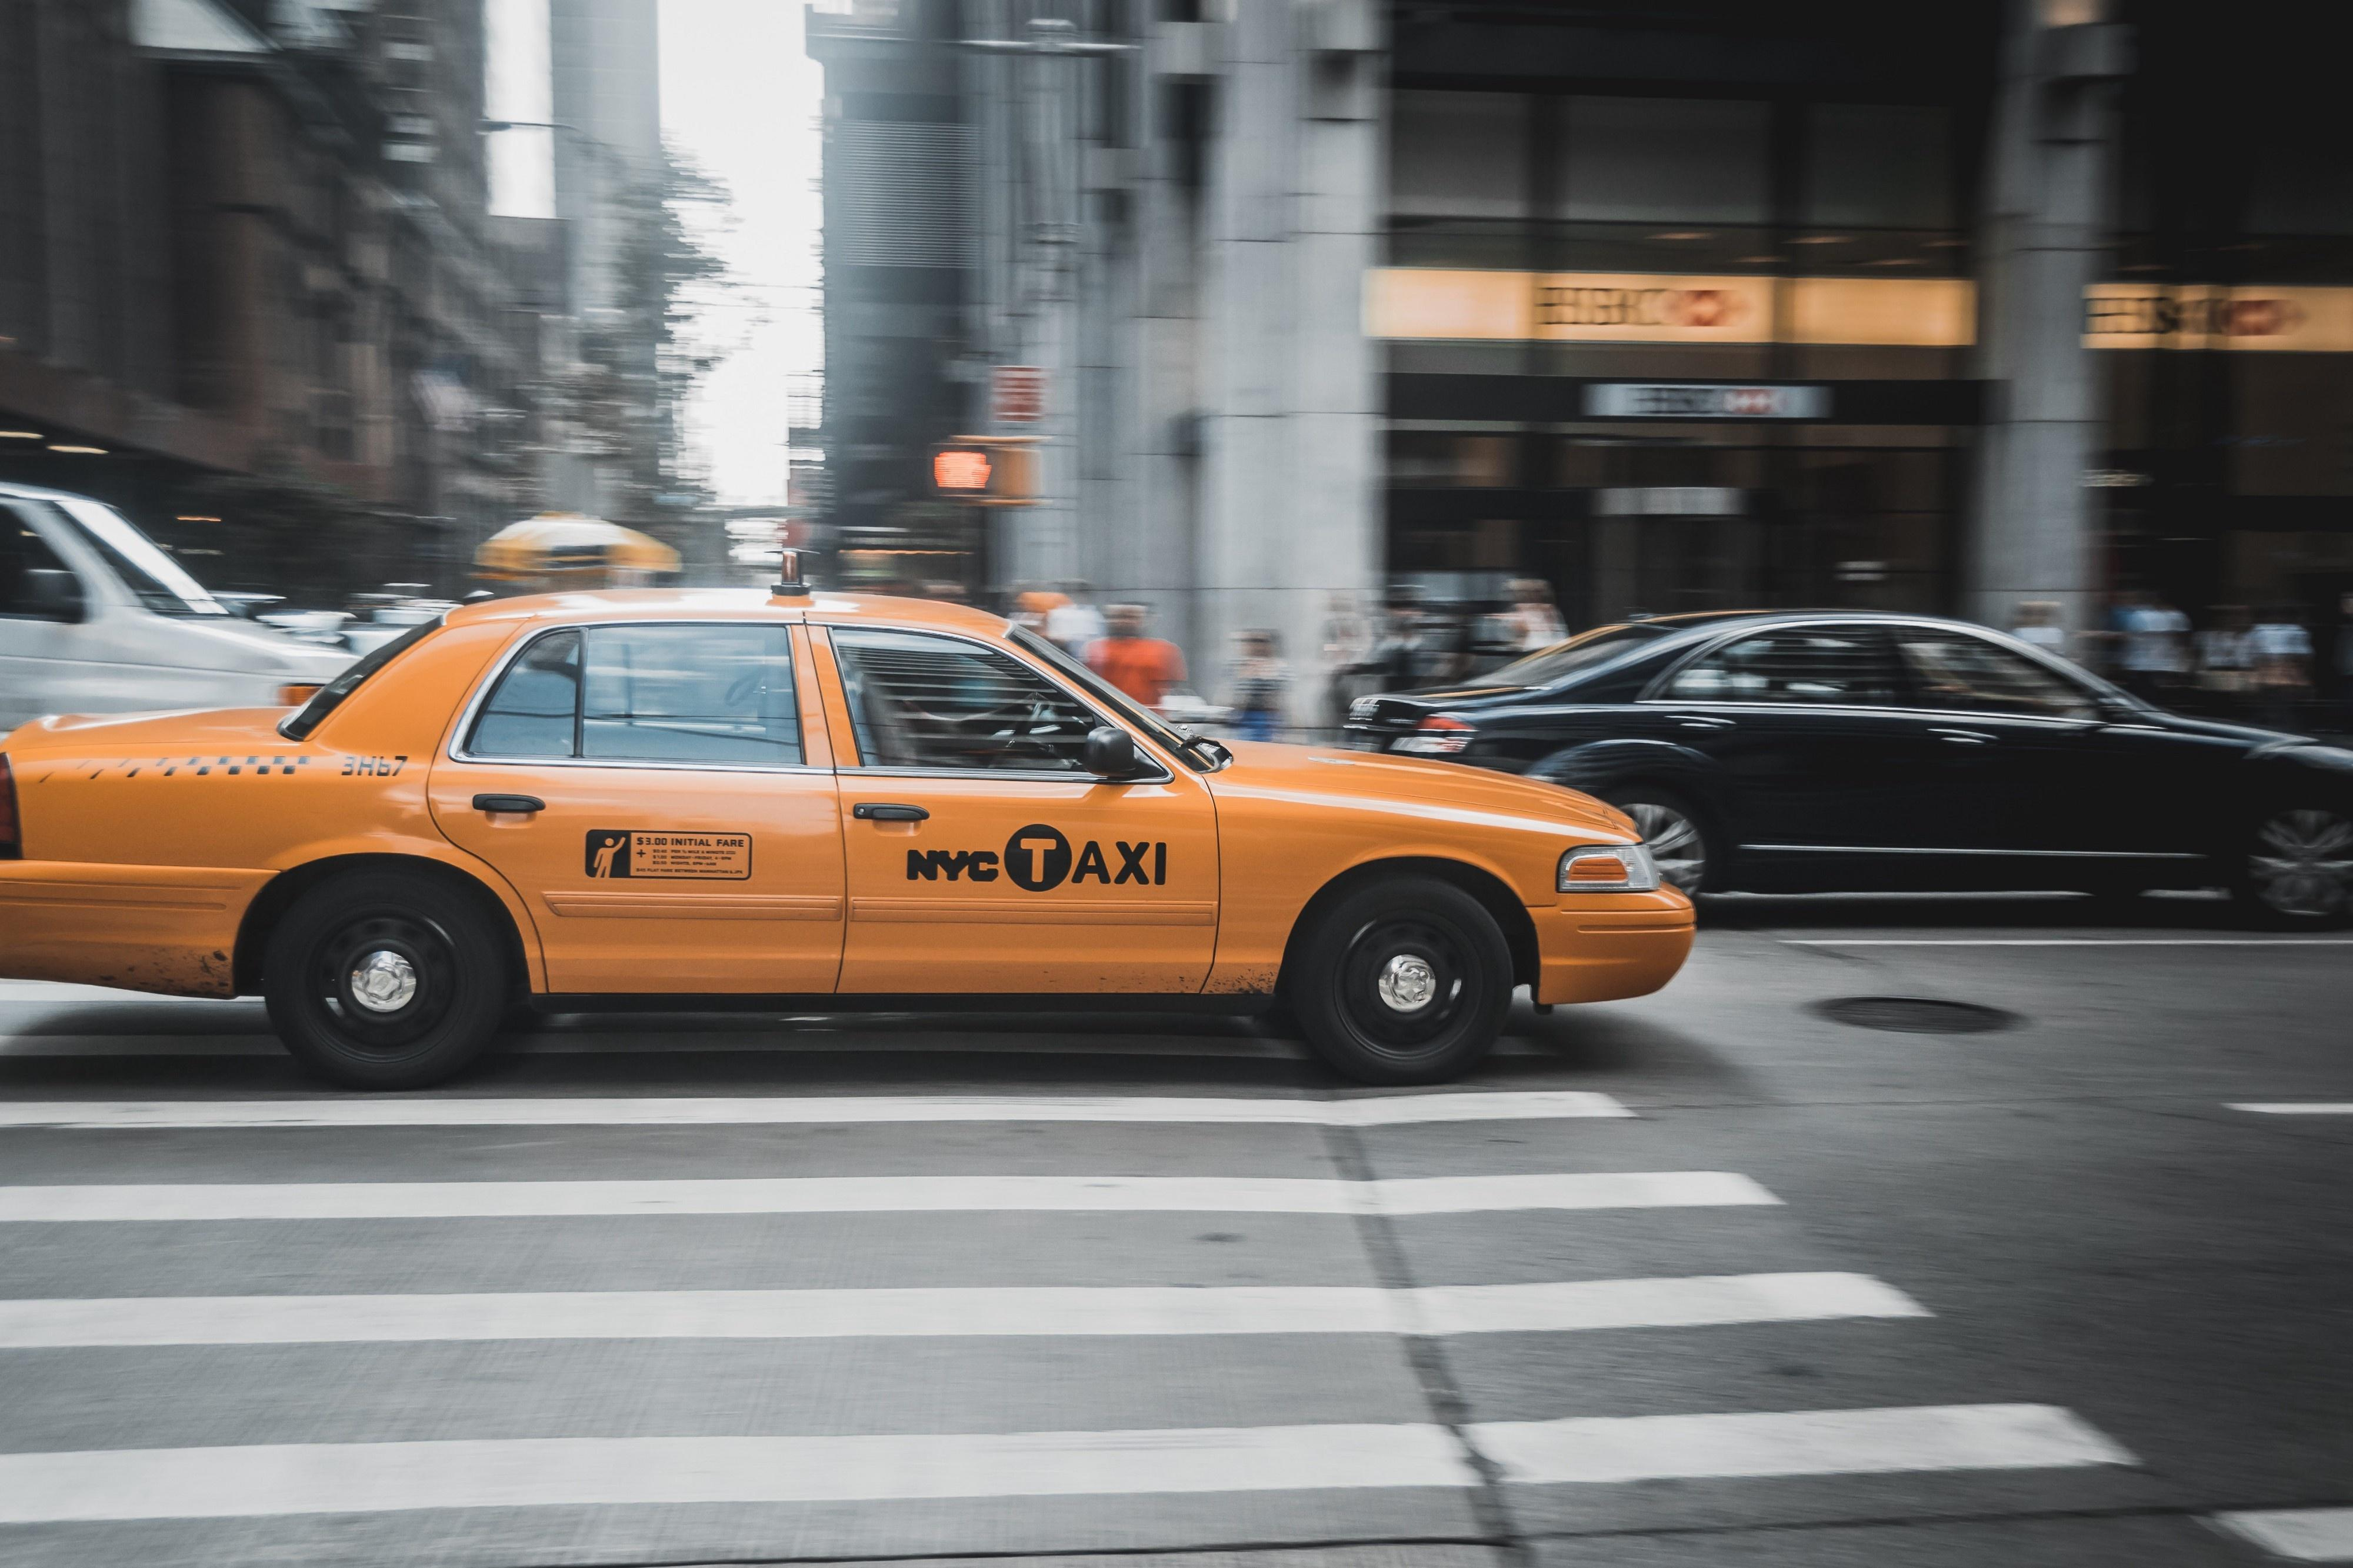taxi: (3, 488, 1697, 1083)
